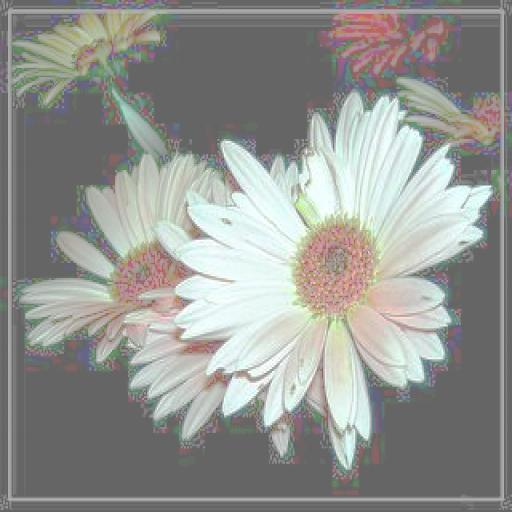daisy: (210, 96, 476, 402), (29, 156, 222, 348), (18, 12, 154, 90)
